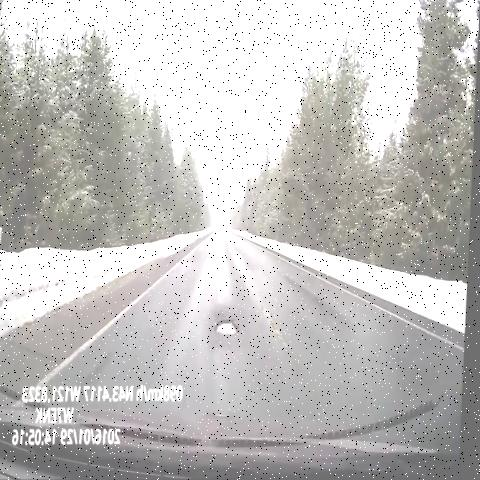pothole: (212, 309, 254, 348)
